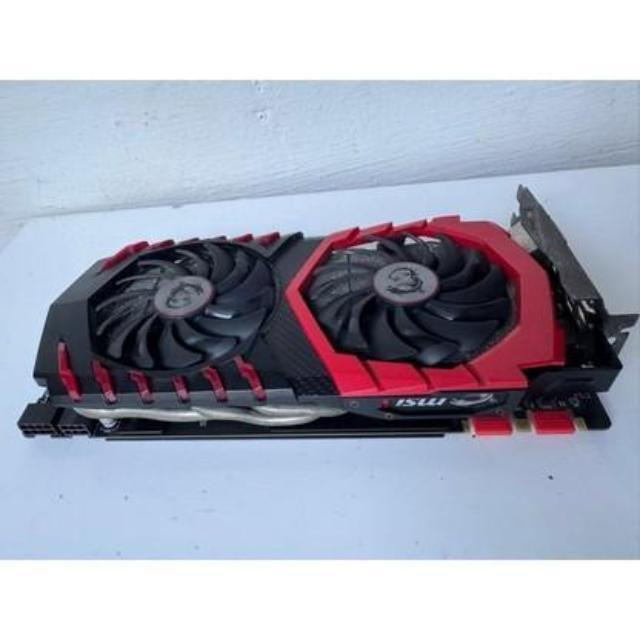GPU: (30, 190, 632, 442)
